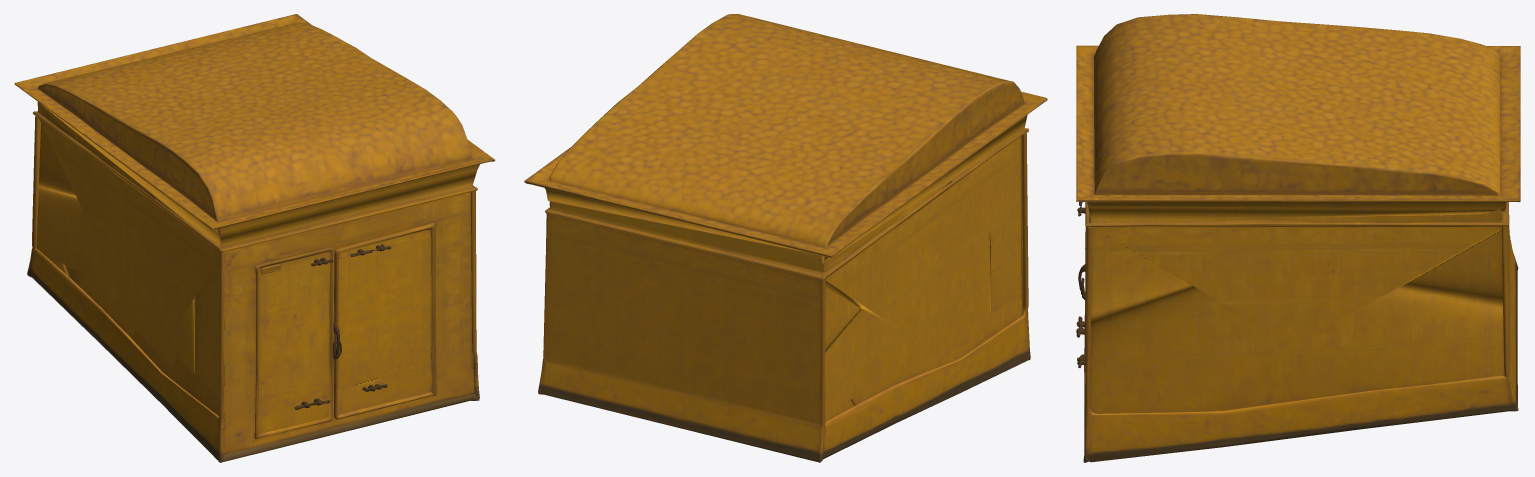
File: burial-shrine-238-ai.glb
3 renders of one model, left to right at view 1: azimuth 30°, elevation 25°; view 2: azimuth 150°, elevation 25°; view 3: azimuth 270°, elevation 25°, orthographic. The views are drawn at different scales.
Parts seen in each view (by area): view 1: geometry_0; view 2: geometry_0; view 3: geometry_0.
Part boxes in pixels (<box>): geometry_0: <box>14,14,495,462</box>; geometry_0: <box>524,14,1047,462</box>; geometry_0: <box>1076,14,1520,462</box>.
Bounding box in the file's own units: 0.8259 × 0.7661 × 1.
Materials: 1 (1 with a texture image).
